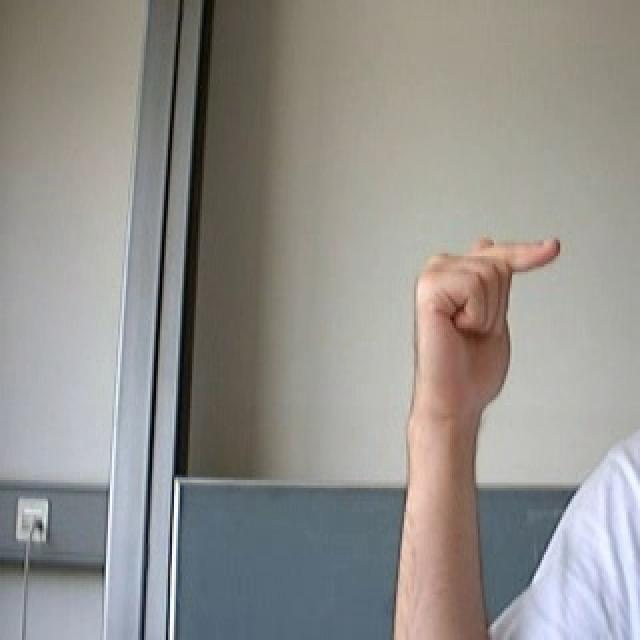T: (373, 208, 570, 453)
